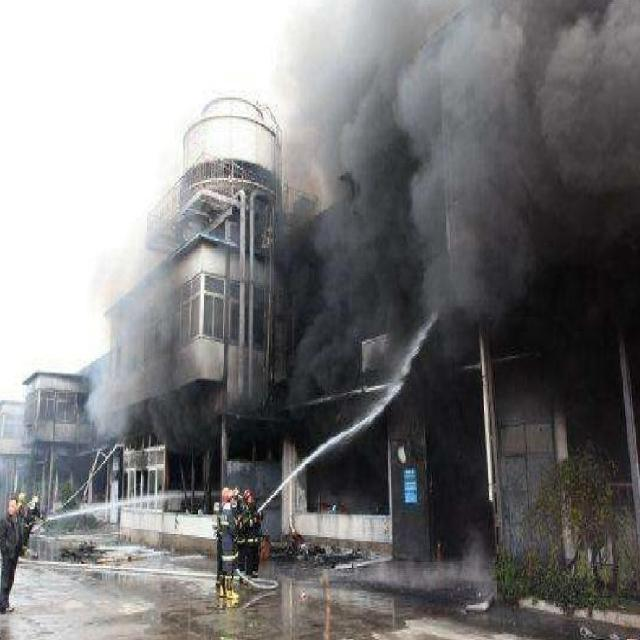Smoke: (232, 0, 640, 429), (83, 210, 191, 450)
